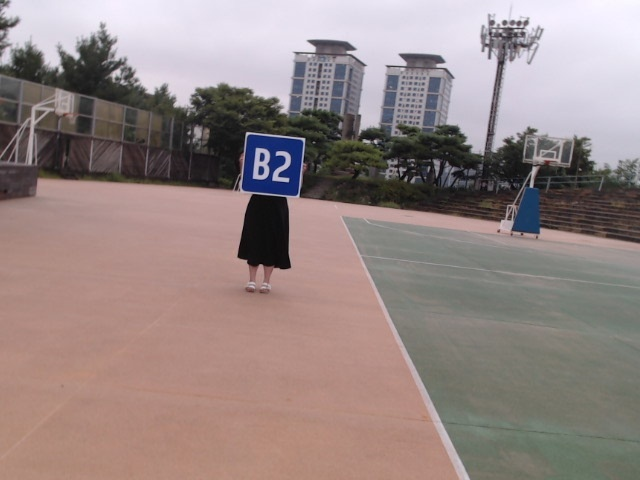delivery_b2: (241, 133, 305, 197)
